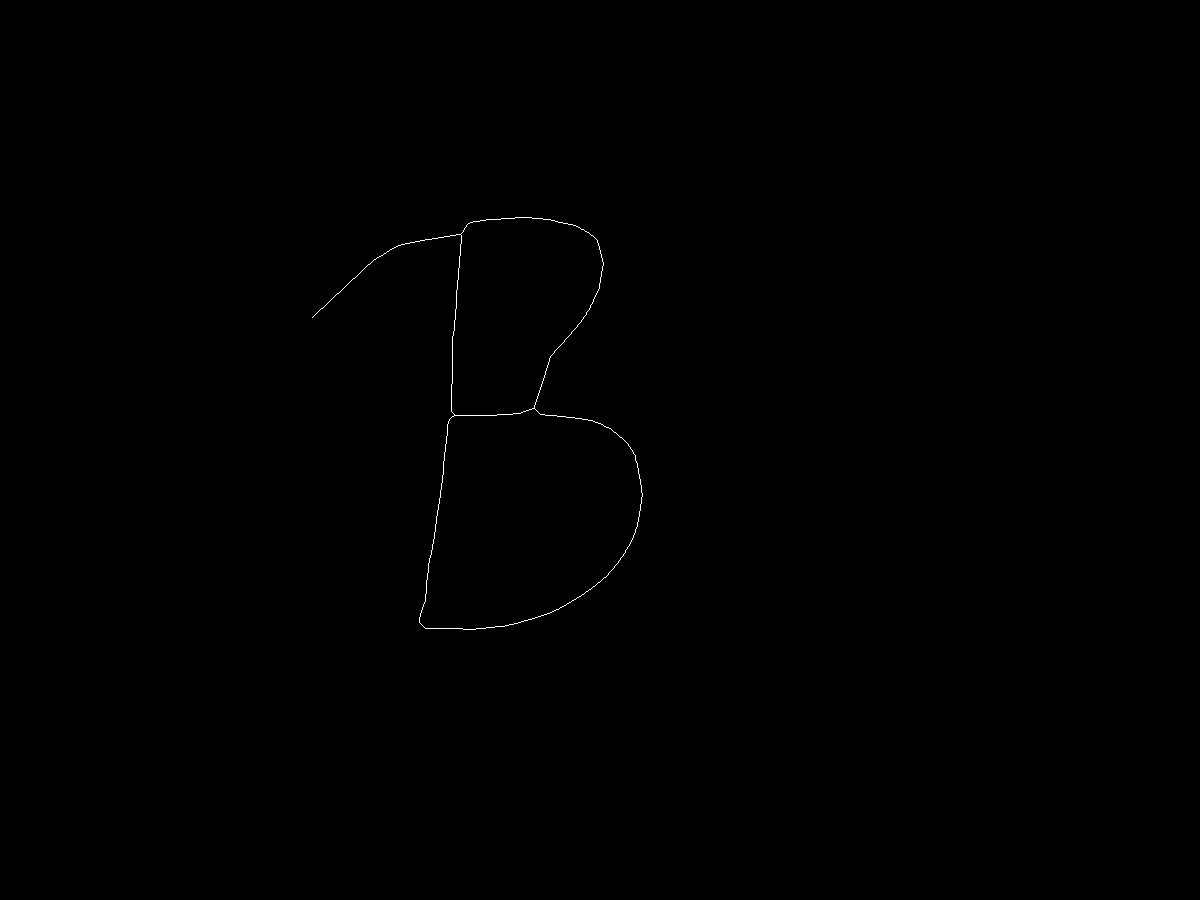dian1: (459, 219, 475, 235)
dian2: (441, 406, 463, 428)
dian3: (412, 621, 425, 634)
dian4: (527, 401, 543, 417)
